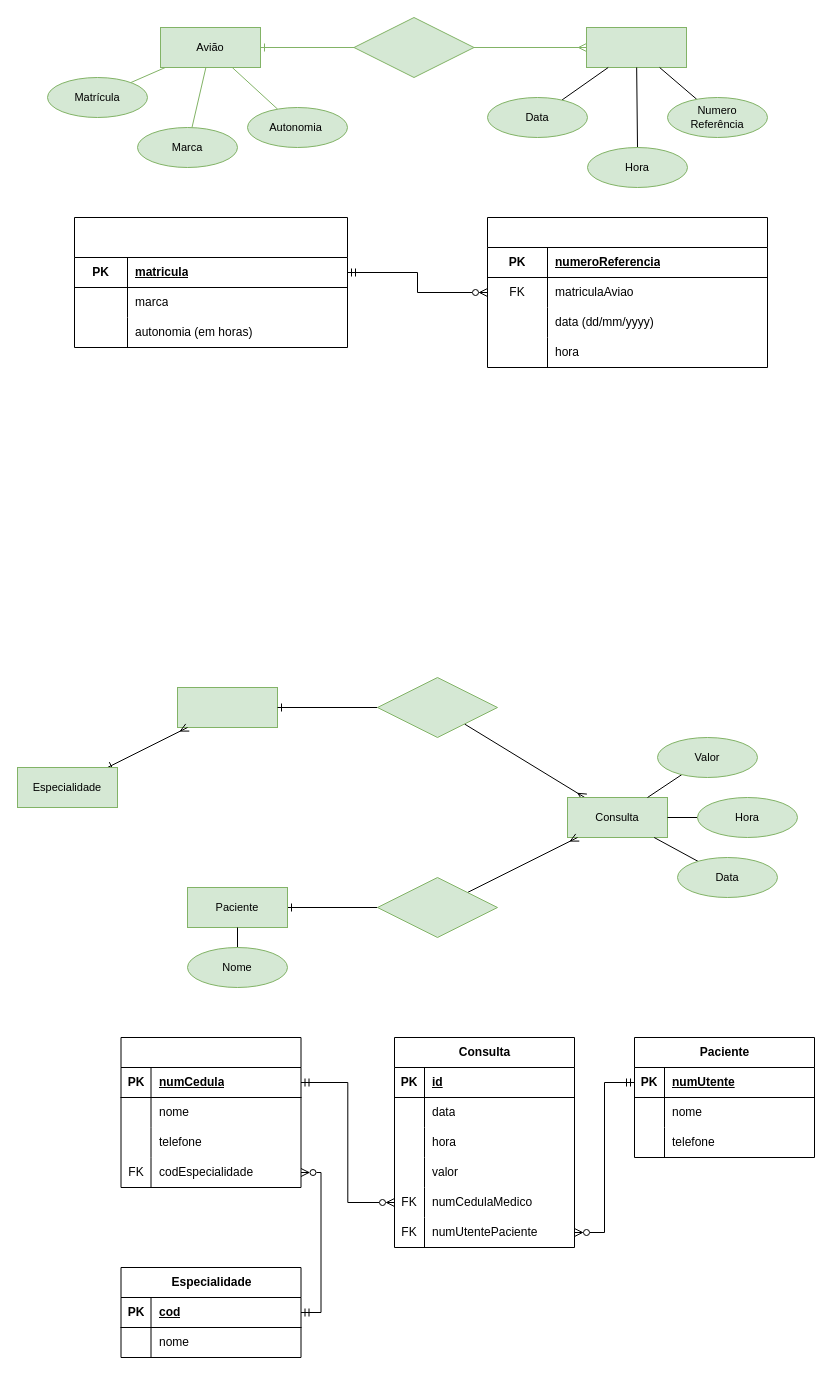
This 832x1375 diagram has some shape labels left out. The box of each missing label's shape, as (x1, y1, x2, y2) in pixels:
Aviao: (74, 216, 348, 348)
Dá: (376, 676, 498, 738)
Faz: (353, 16, 474, 78)
Medico: (120, 1036, 301, 1188)
Médico: (176, 686, 278, 728)
Solícita: (376, 876, 498, 938)
Voo: (486, 216, 768, 368)
Voos: (586, 26, 686, 68)
